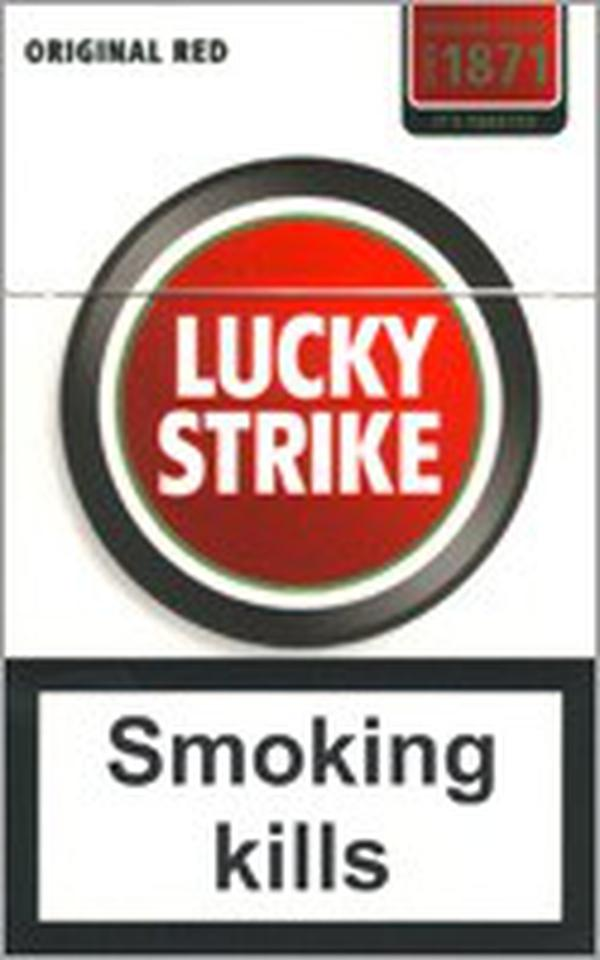lucky_strike_red: (6, 6, 587, 954)
